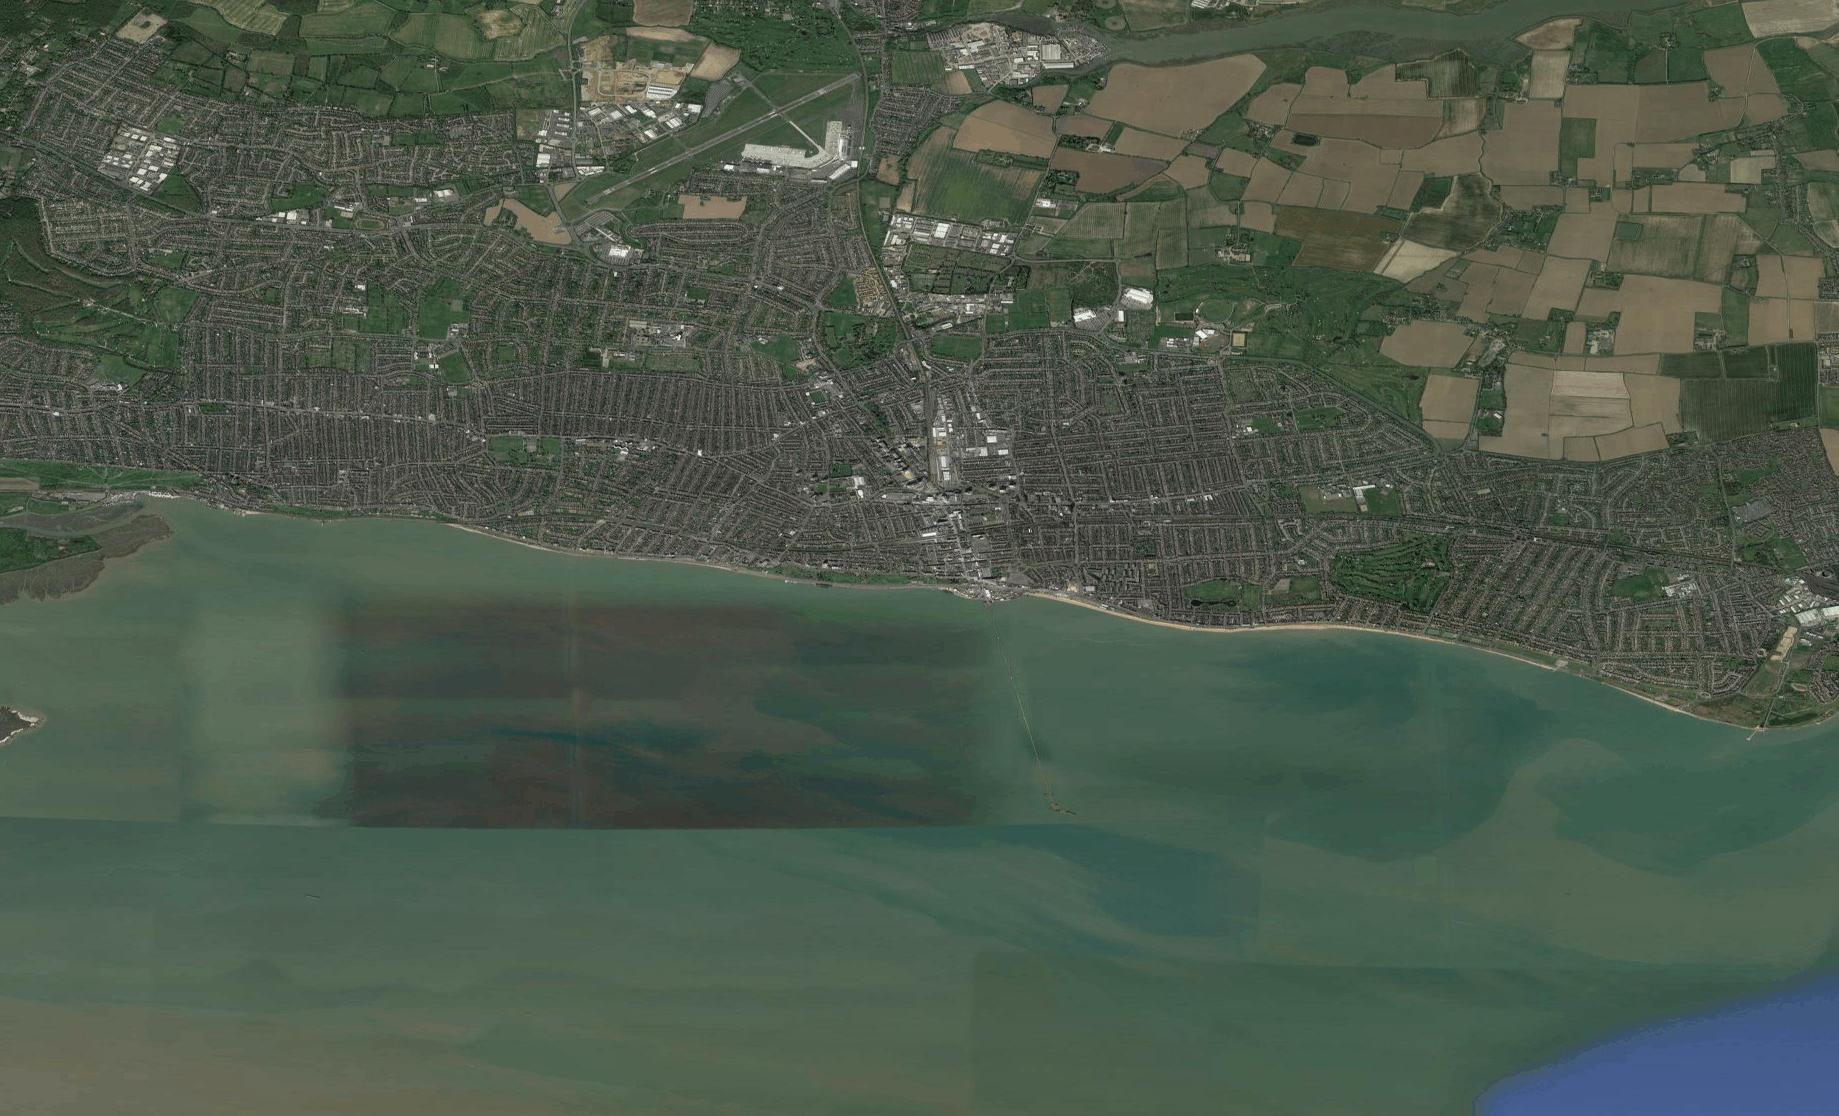airport: (581, 67, 858, 211)
harbor: (941, 580, 1030, 614)
industrial: (908, 280, 996, 333), (838, 471, 874, 503)
train_station: (925, 407, 958, 495)
